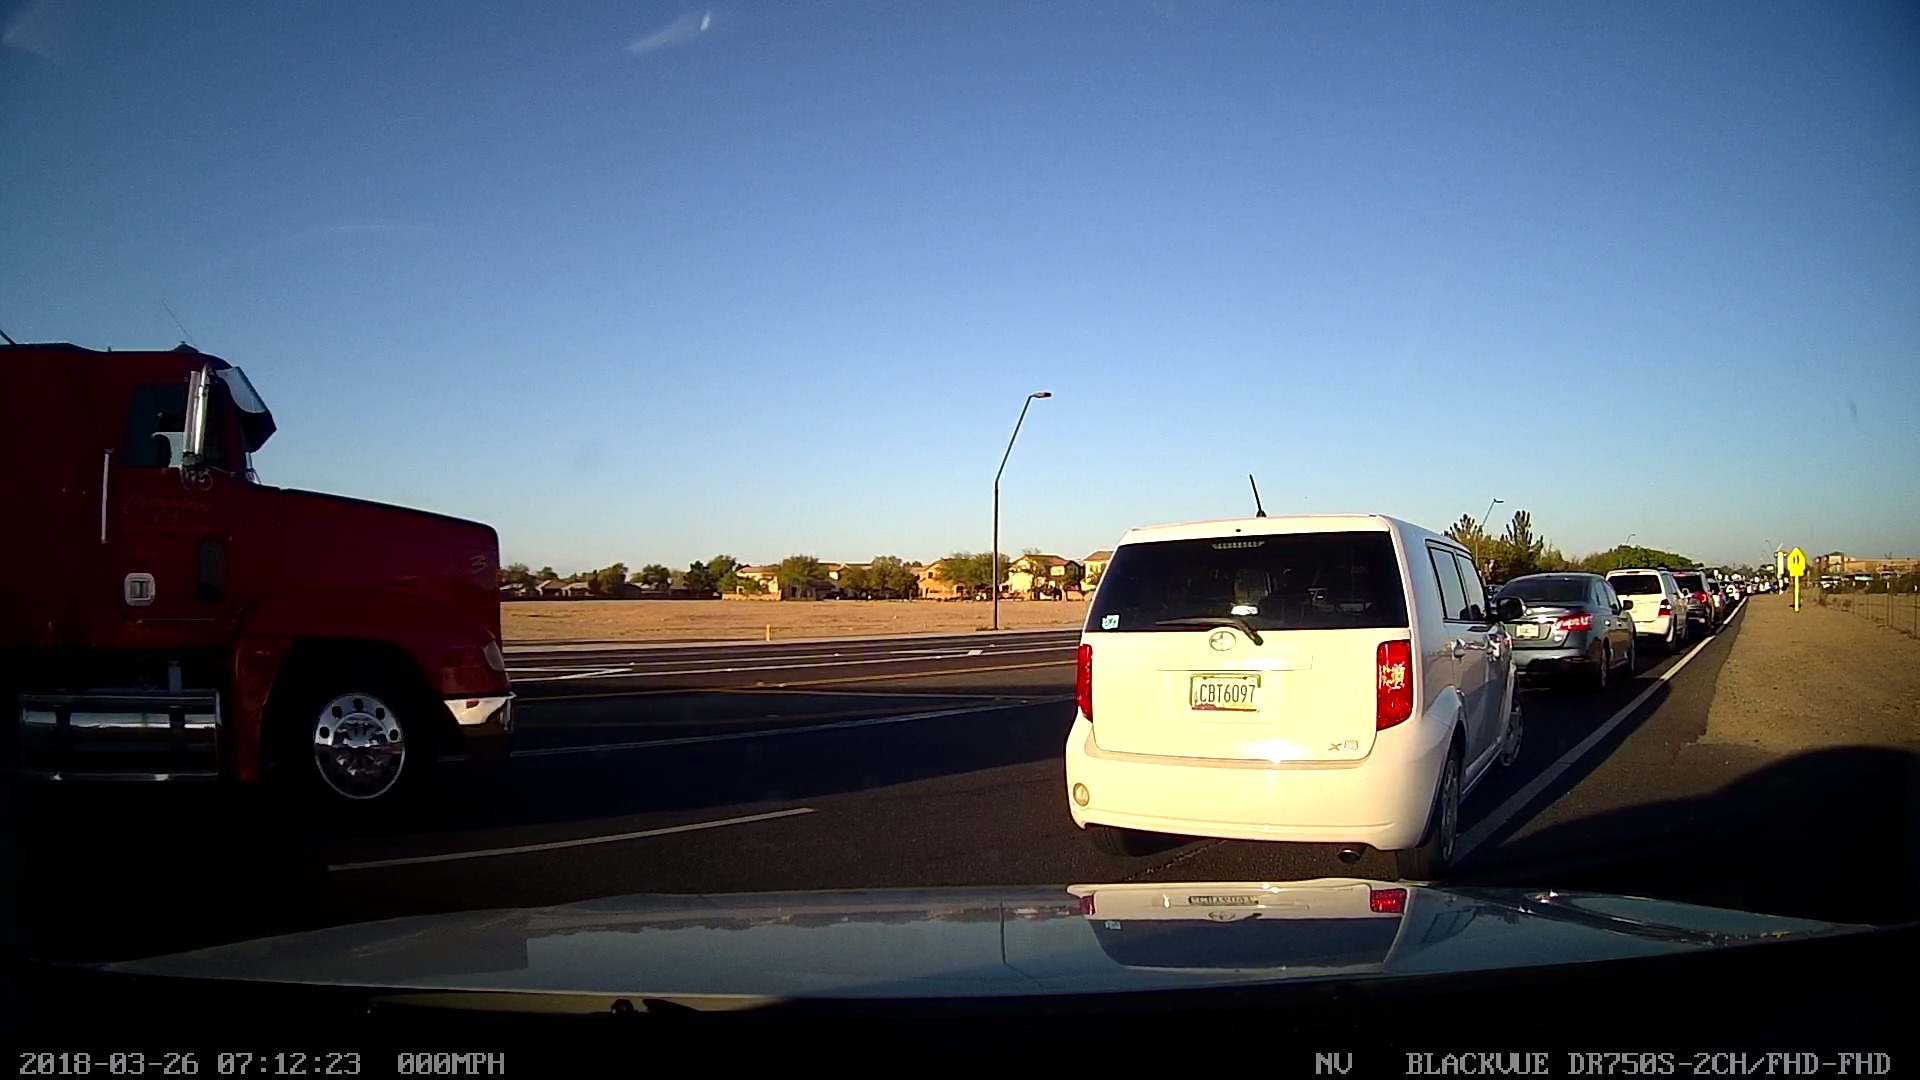plate: (1183, 668, 1264, 714)
vehicle: (0, 335, 506, 807), (1053, 506, 1529, 851), (1492, 569, 1636, 698), (1606, 564, 1684, 654)
